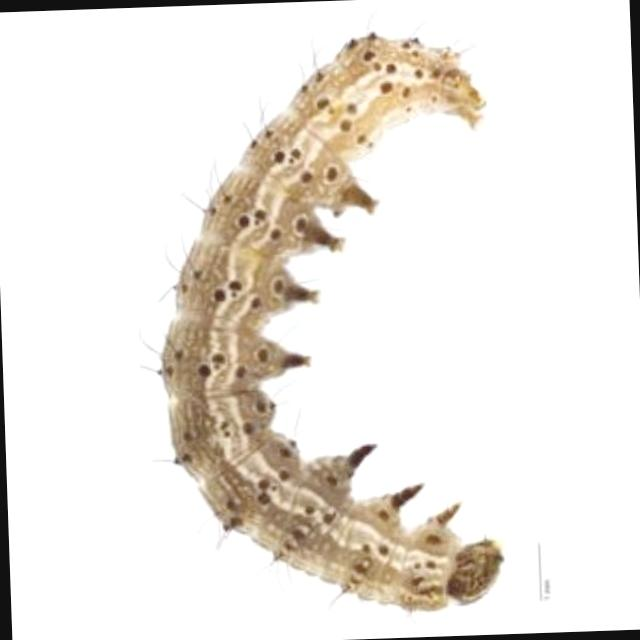Cotton bollworm: (76, 13, 544, 628)
